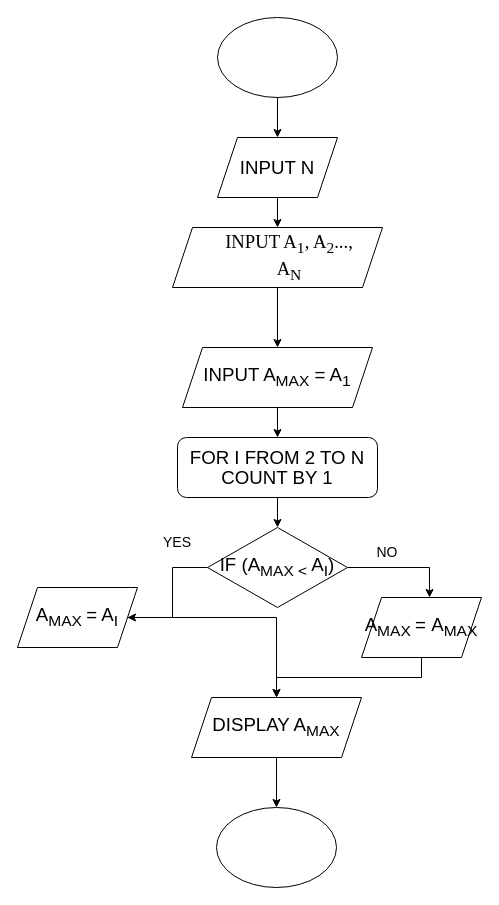
The diagram is 499 pixels wide and 905 high, and some of its shapes have lost their labels. The shapes that lost their labels are listed below. From the top down, each one's centre as x and y in pixels, then its label:
At pixel 277 57: "BEGIN".
At pixel 276 847: "END".
